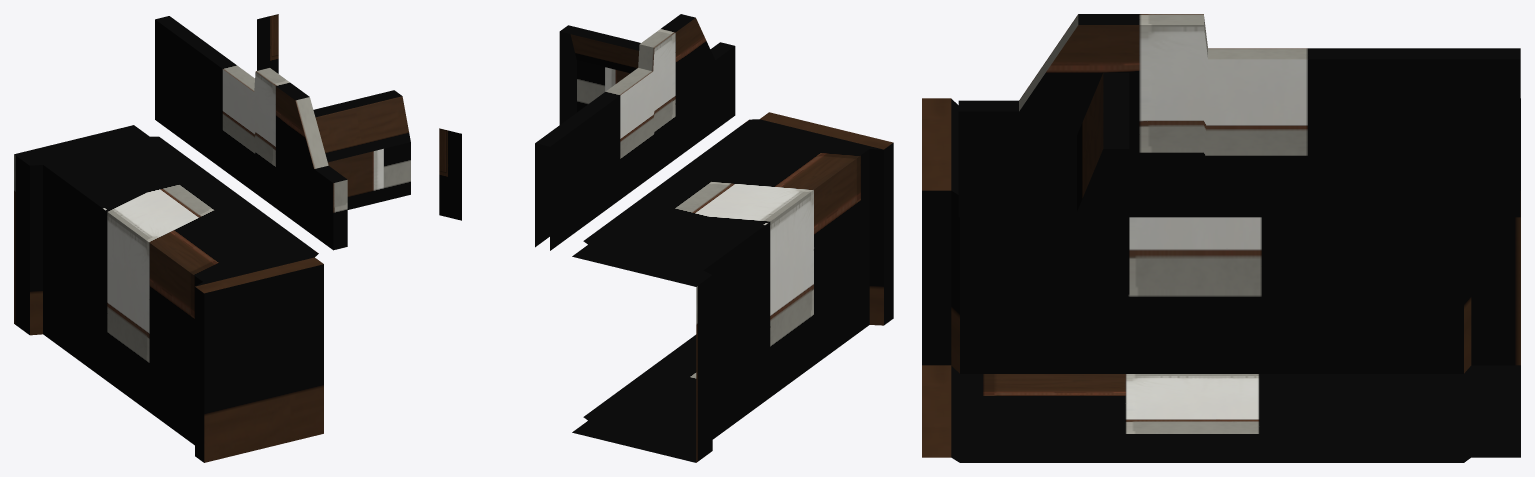
3 renders of one model, left to right at view 1: azimuth 30°, elevation 25°; view 2: azimuth 150°, elevation 25°; view 3: azimuth 270°, elevation 25°, orthographic. The views are drawn at different scales.
Size of the model in its own units: 0.8774 by 0.9558 by 1.13.
